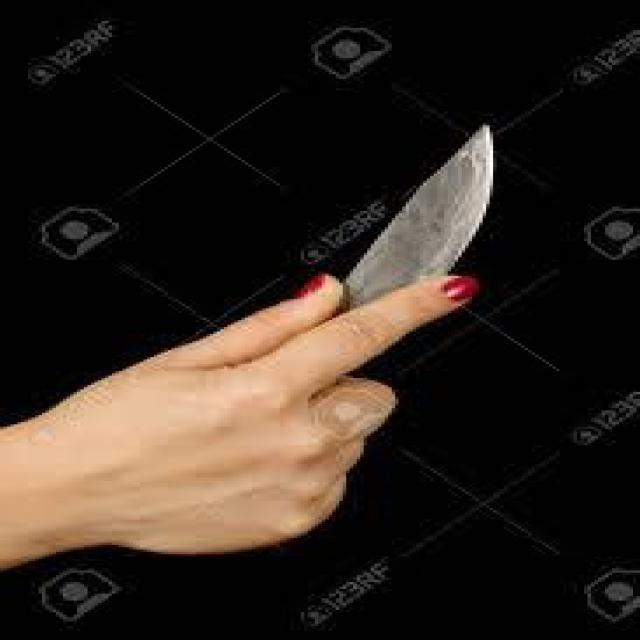faca: (98, 51, 549, 580)
